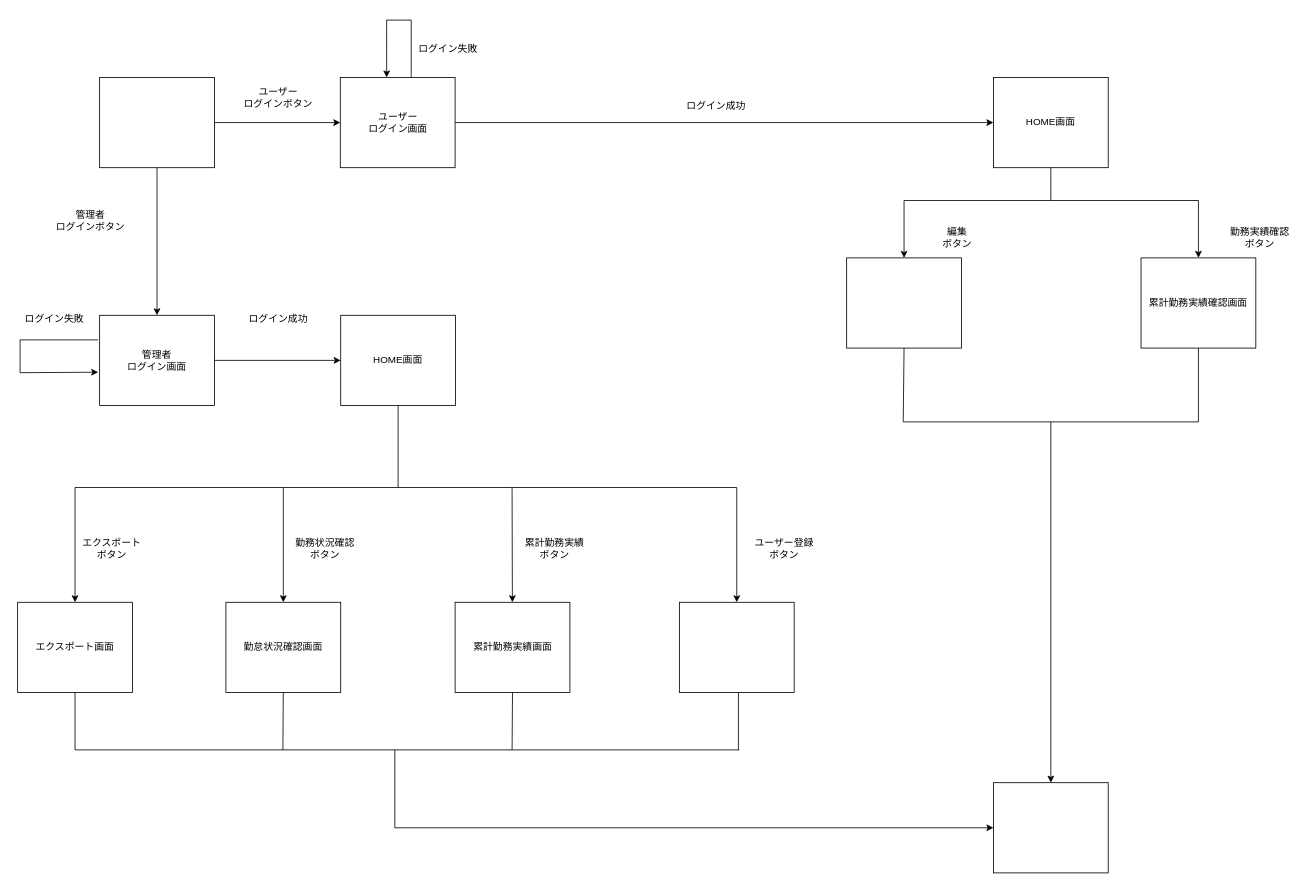
This 1311x887 diagram has some shape labels left out. Here are the shapes that lost their labels. From the top down, the box of each, then its label:
(99, 77, 214, 168): トップ画面
(846, 257, 961, 348): 編集画面
(679, 601, 794, 692): ユーザー登録画面
(993, 782, 1108, 873): ログアウト画面
